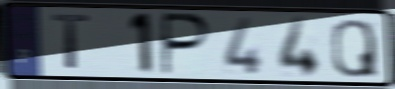1: (127, 11, 155, 77)
4: (276, 14, 322, 81), (221, 14, 264, 77)
P: (159, 11, 214, 78)
Q: (329, 17, 380, 79)
T: (50, 12, 93, 73)
